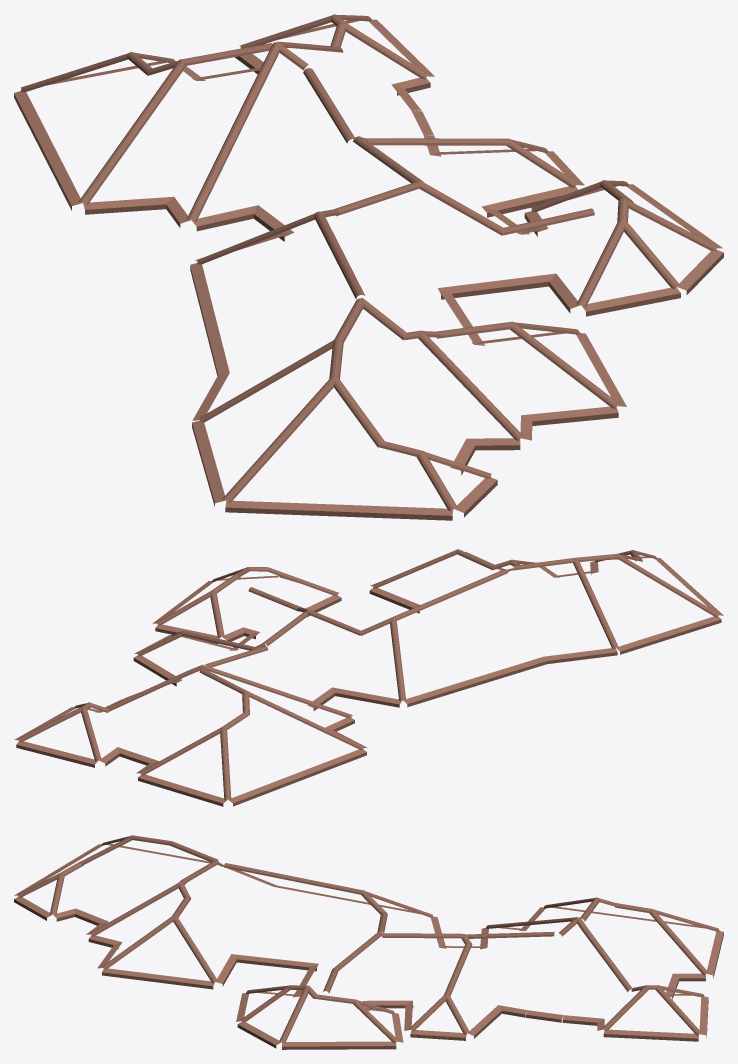
3 views of the same model, one above another, from view 1: azimuth 30°, elevation 25°; view 2: azimuth 150°, elevation 25°; view 3: azimuth 270°, elevation 25° (orthographic). The views are drawn at different scales.
Parts seen in each view (by area): view 1: detail; view 2: detail; view 3: detail.
Boxes of the visible parts, <box> form: detail: <box>14,14,723,520</box>; detail: <box>14,549,723,806</box>; detail: <box>14,835,723,1049</box>.
Size of the model in its own units: 20.85 by 3.15 by 30.74.
